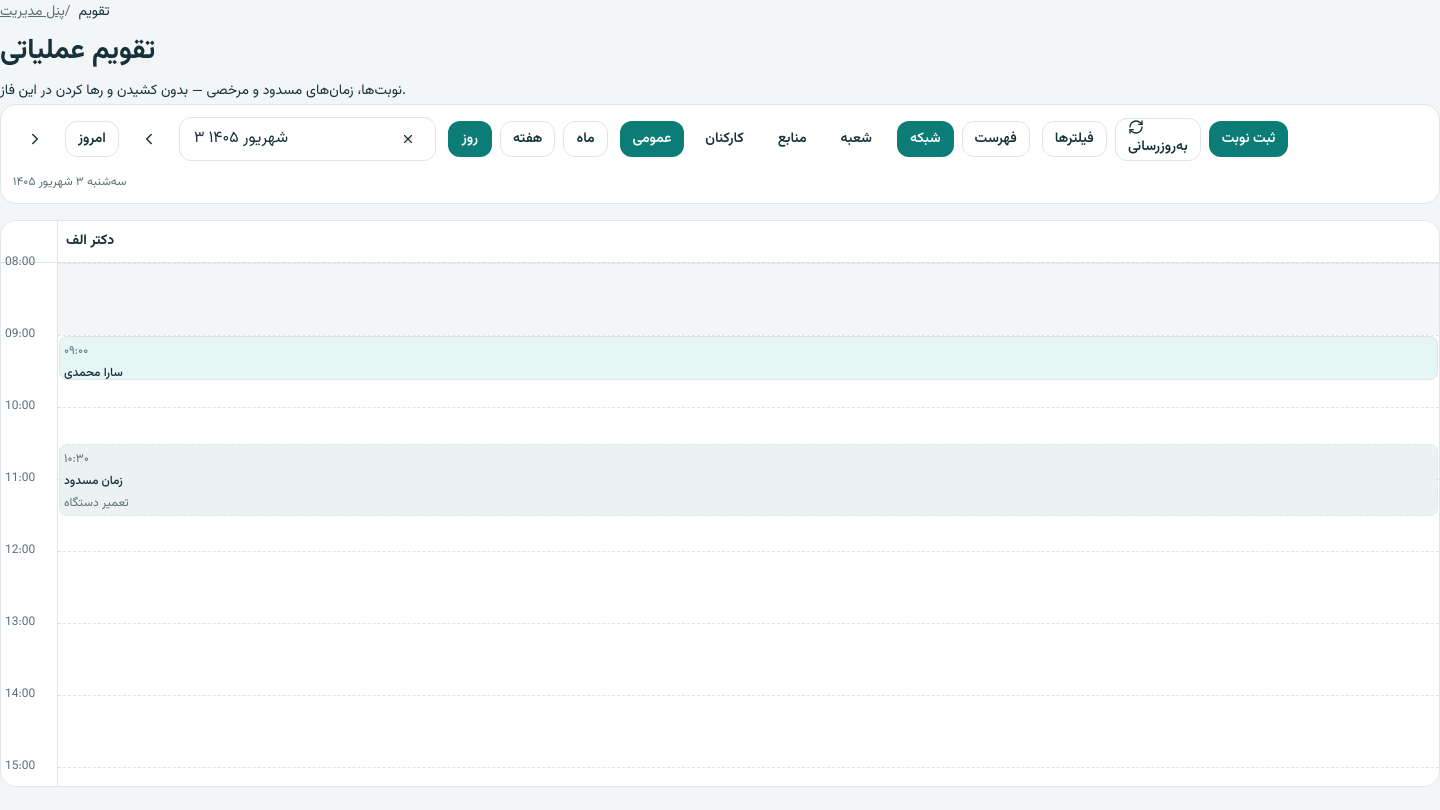
Scenario: admin calendar flow (mocked Backend) › opens an appointment in the quick view and links to its detail page
Click the button "۰۹:۰۰ سارا محمدی ویزیت تأییدشده": x=93, y=373 left=59, top=336, right=1438, bottom=380
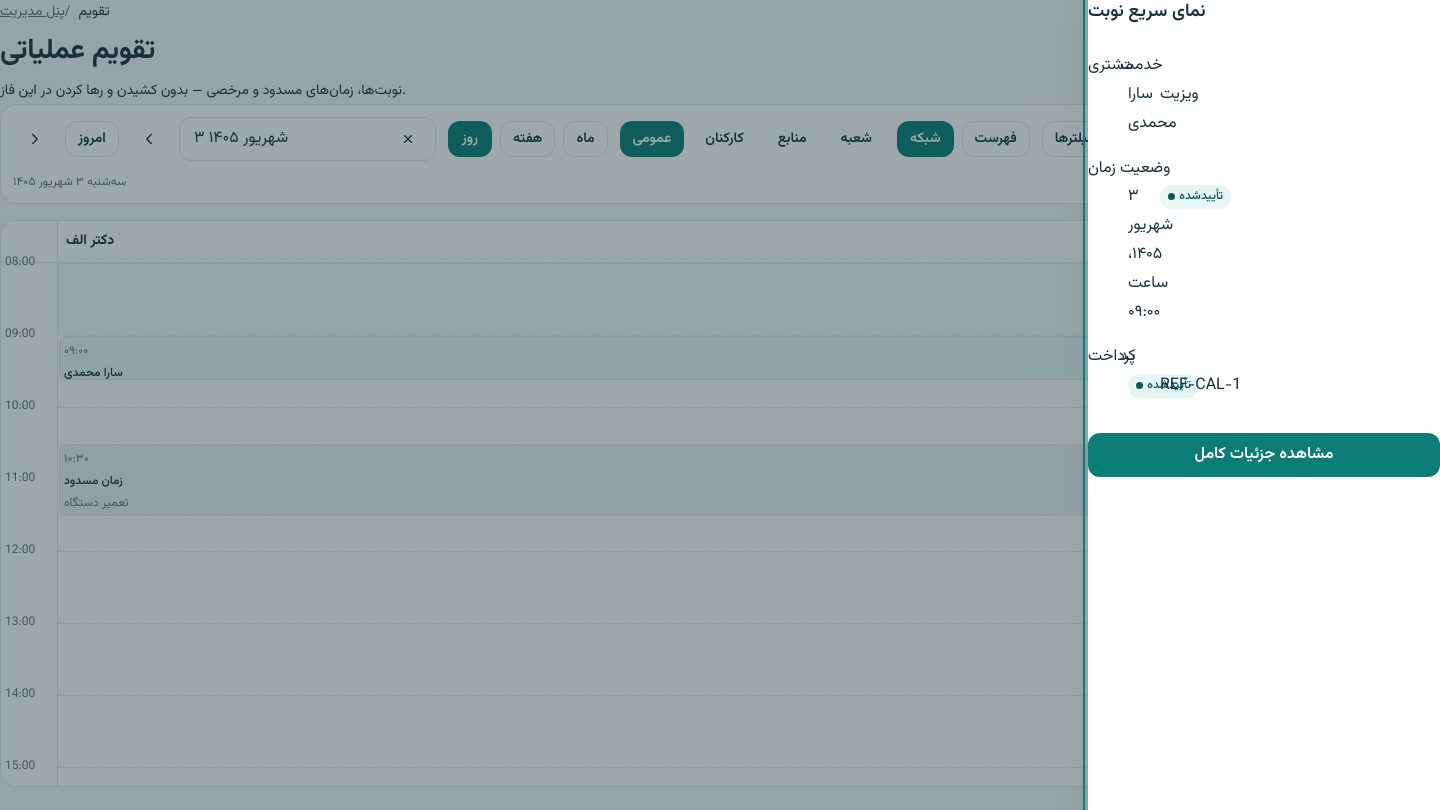
Check: the text "REF-CAL-1" is shown, box left=1160, top=372, right=1241, bottom=401
Check: the element showing "تأییدشده" is shown, box left=1160, top=185, right=1231, bottom=209
